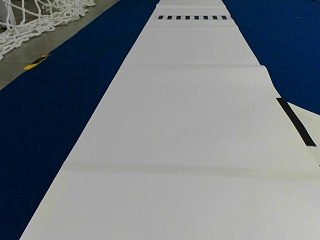crosswalk: (158, 13, 226, 20)
